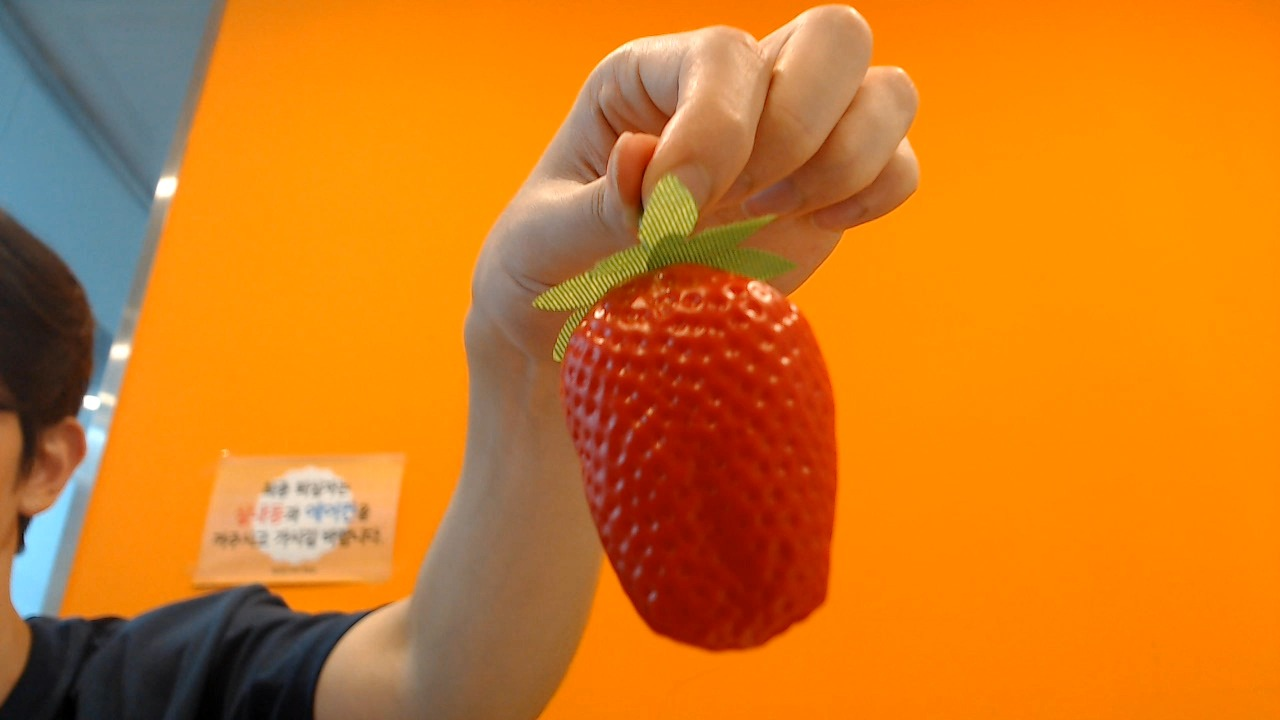strawberry: (559, 235, 838, 653)
